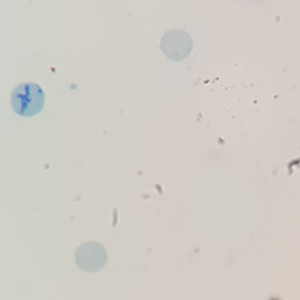aggregate reticulocyte: (9, 81, 47, 119)
erythrocyte: (74, 240, 110, 274)
punctate reticulocyte: (158, 28, 195, 62)
